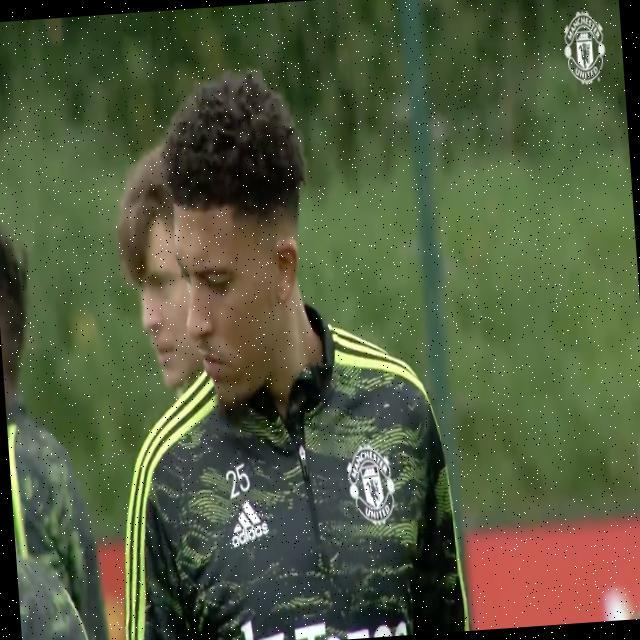Adidas: (227, 500, 270, 551)
